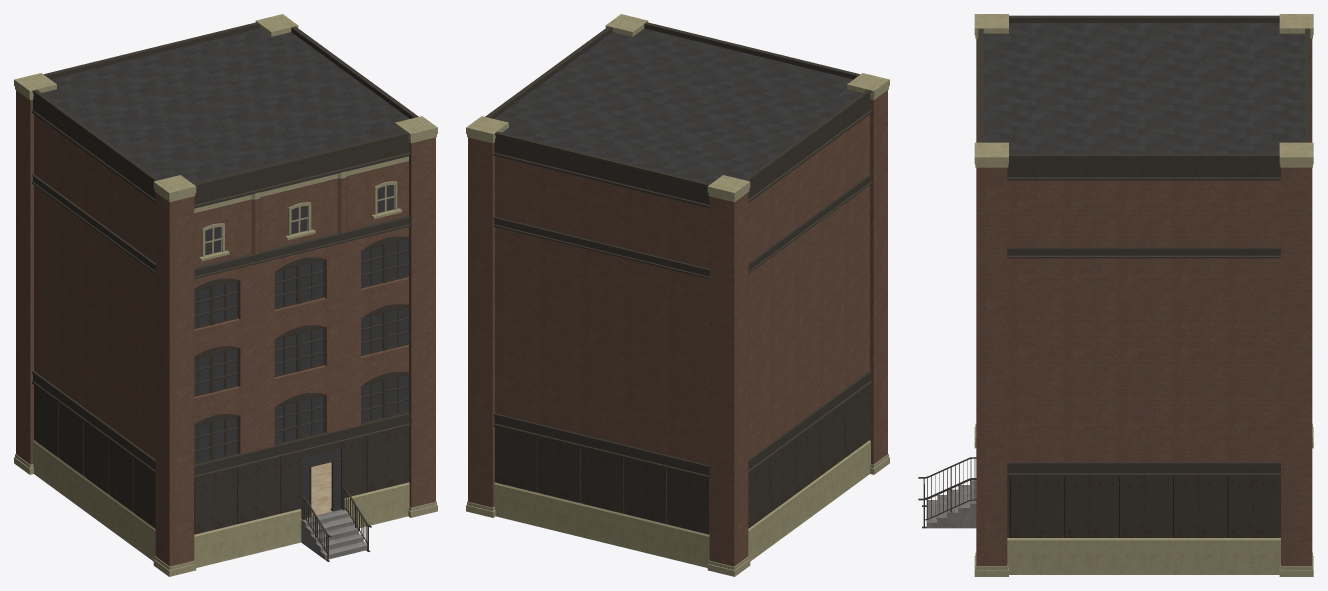
The model's file is building-3.glb.
3 views of the same model, side by side, from view 1: azimuth 30°, elevation 25°; view 2: azimuth 150°, elevation 25°; view 3: azimuth 270°, elevation 25° (orthographic). The views are drawn at different scales.
Parts seen in each view (by area): view 1: Building_Small_1; view 2: Building_Small_1; view 3: Building_Small_1.
Part boxes in pixels (left/top/right/bottom): Building_Small_1: left=14, top=14, right=437, bottom=576; Building_Small_1: left=466, top=14, right=889, bottom=576; Building_Small_1: left=918, top=14, right=1313, bottom=576.
Size of what is drawn, in the model's own units: 12.46 by 17.03 by 14.54.
13 materials, 12 textured.
